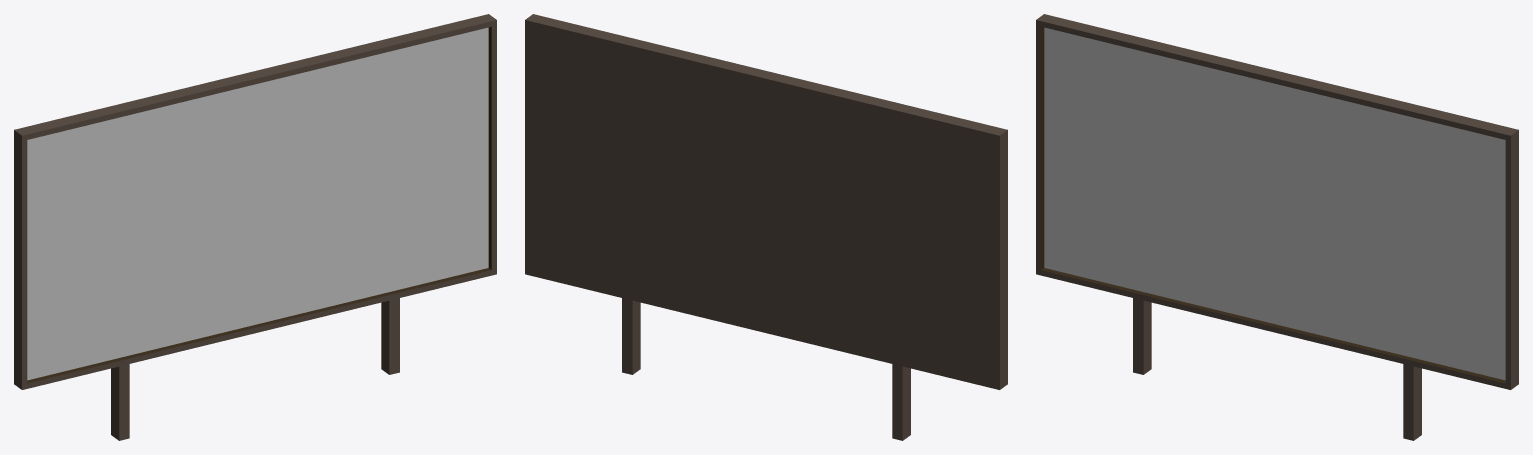
The model's file is creator-contest.glb.
3 views of the same model, side by side, from view 1: azimuth 30°, elevation 25°; view 2: azimuth 150°, elevation 25°; view 3: azimuth 330°, elevation 25° (orthographic).
Parts seen in each view (by area): view 1: Creator_Contest; view 2: Creator_Contest; view 3: Creator_Contest.
Boxes of the visible parts, x1,y1,x2,y2 form: Creator_Contest: (14,14,496,440); Creator_Contest: (525,14,1007,440); Creator_Contest: (1036,14,1518,440).
Size of what is drawn, in the model's own units: 7.11 by 4.71 by 0.211.
